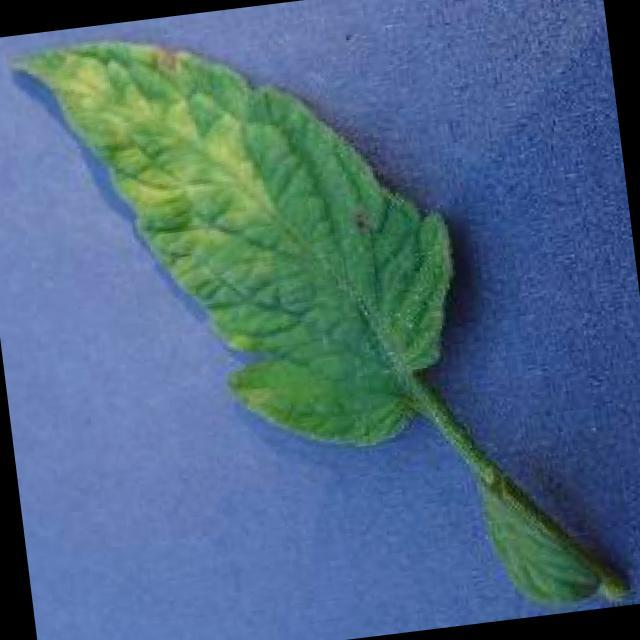Tomato mold leaf: (12, 1, 482, 482)
